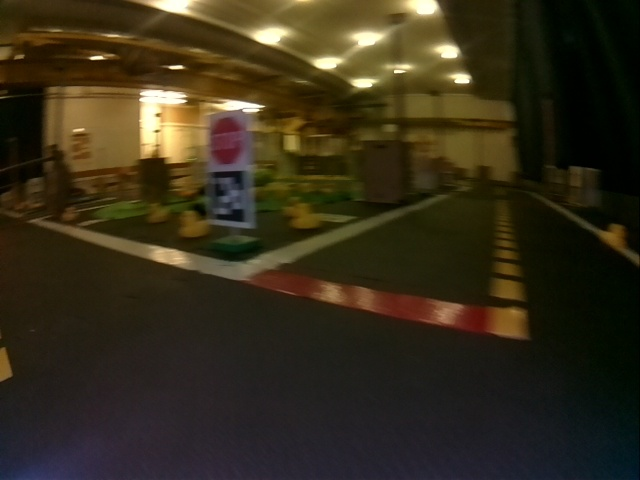Duckie: (179, 211, 208, 236), (292, 204, 320, 228), (601, 224, 627, 246), (146, 203, 167, 220), (281, 200, 303, 215), (62, 207, 78, 220)
QR code: (210, 169, 250, 226)
Stop sign: (211, 117, 242, 164)
